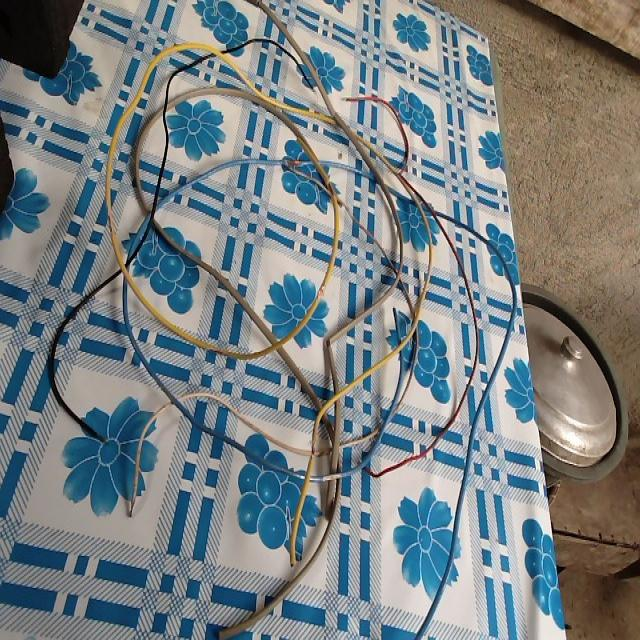-: (103, 208, 118, 236), (94, 428, 112, 451), (283, 153, 305, 170), (314, 278, 327, 306), (126, 495, 138, 517), (307, 440, 318, 461), (339, 92, 351, 108)
